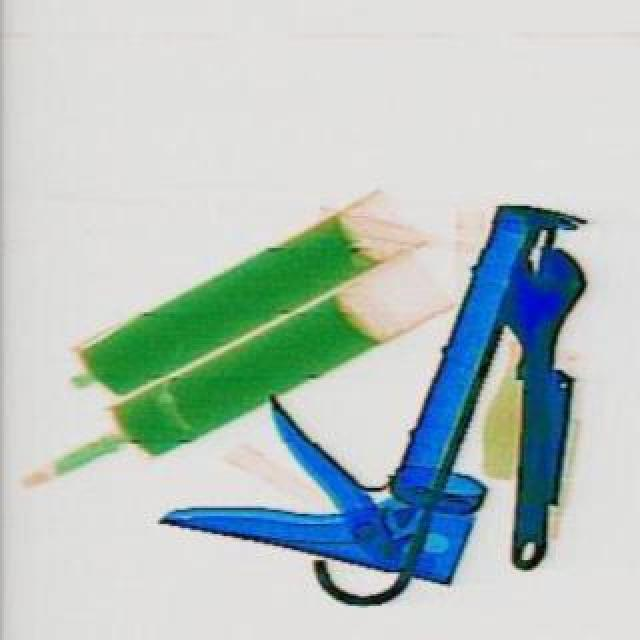knife: (154, 138, 580, 608)
scissors: (452, 248, 586, 576)
